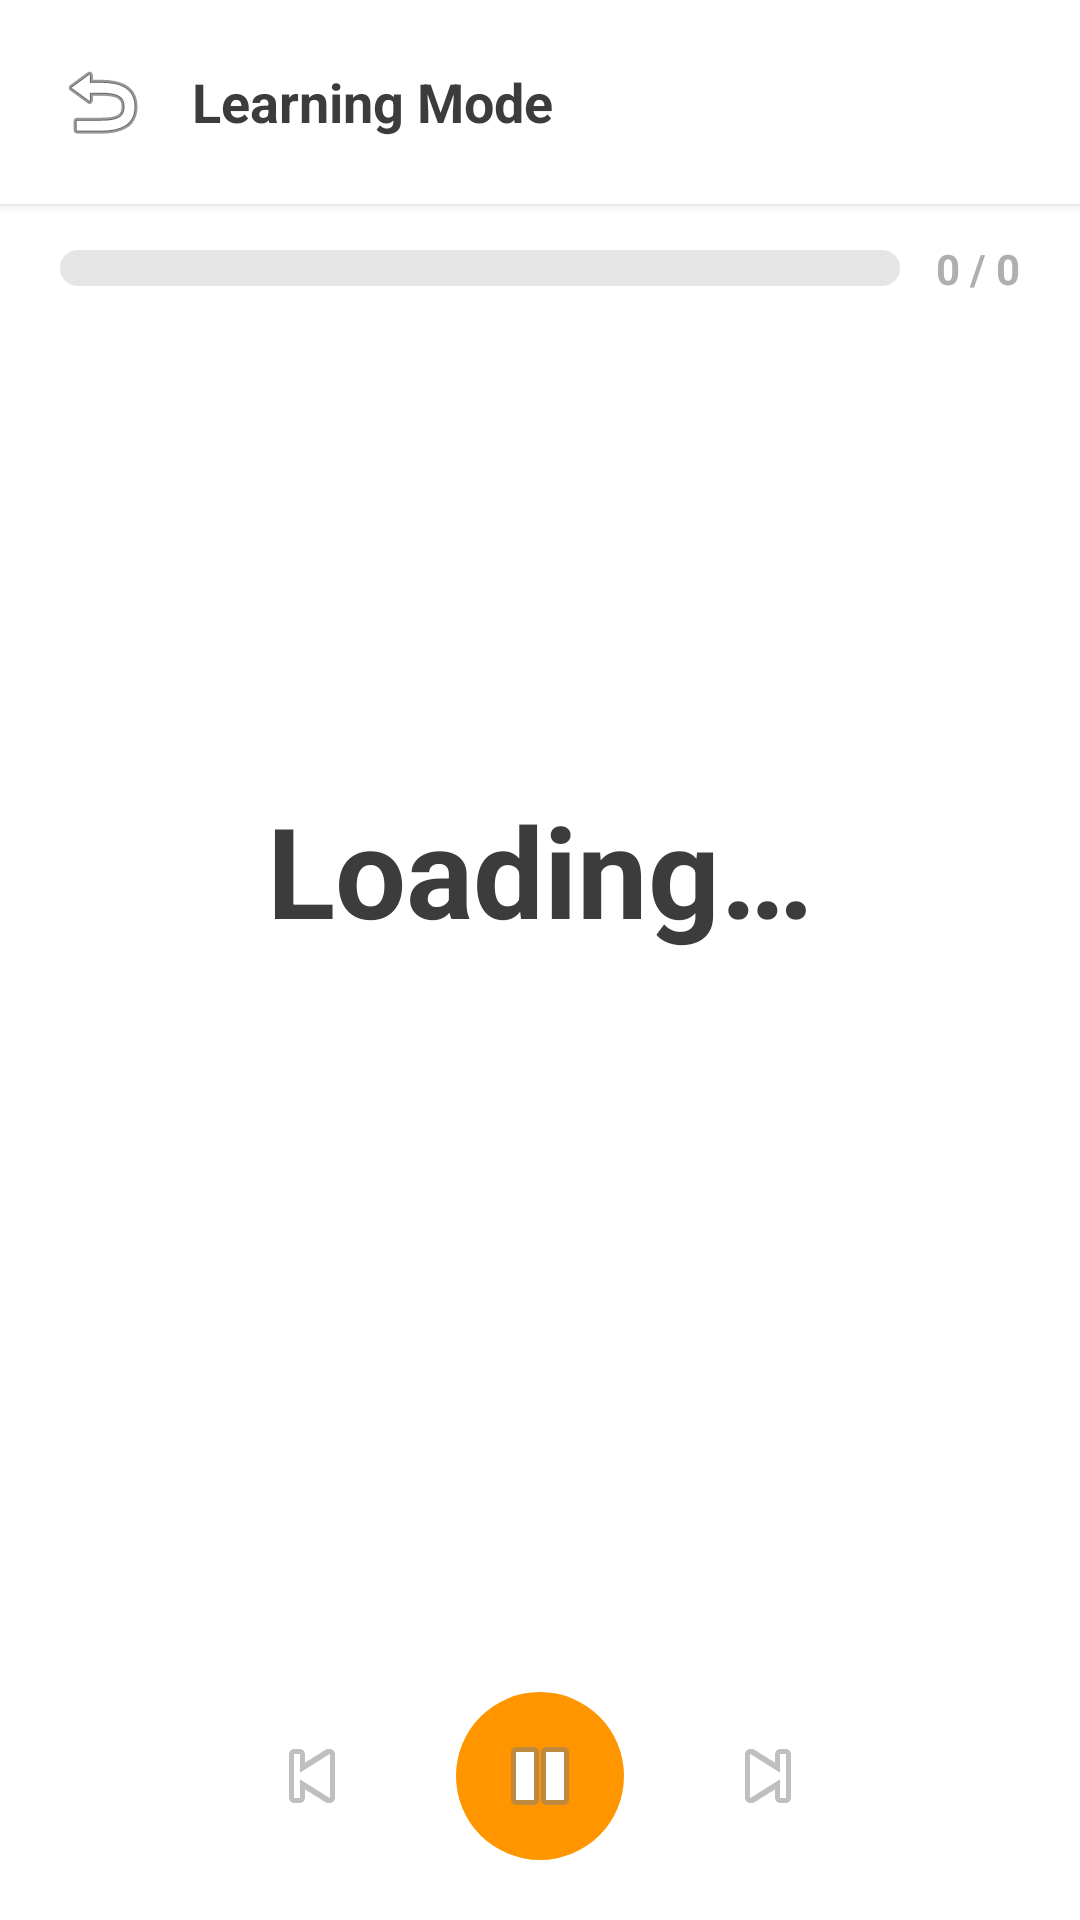

Where to tap for icons on this 1080 x 1920 app screen, as (x,y):
Back: (103,102)
Next: (768,1776)
Pause: (540,1776)
Previous: (312,1776)
